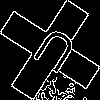U: (25, 25, 80, 83)
